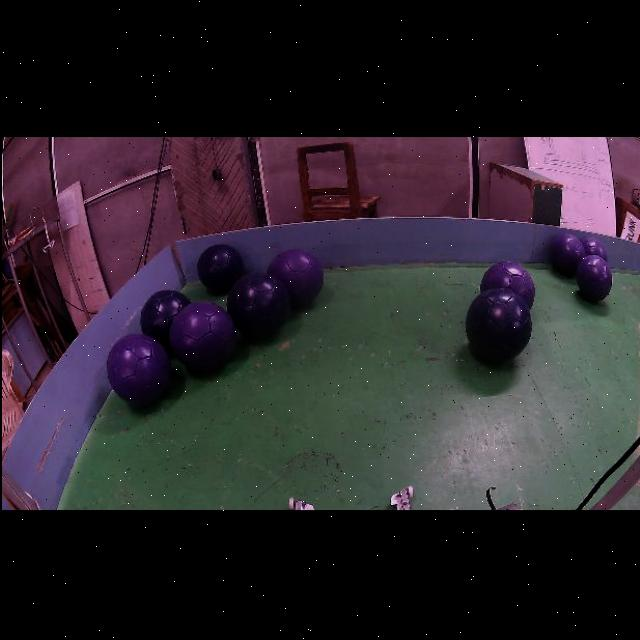B: (464, 286, 531, 361), (225, 271, 289, 336), (138, 288, 189, 352), (196, 243, 242, 291)
P: (167, 300, 235, 369), (105, 332, 170, 404), (266, 247, 322, 304), (479, 260, 535, 306), (575, 253, 611, 300), (550, 232, 585, 275), (580, 236, 606, 261)
